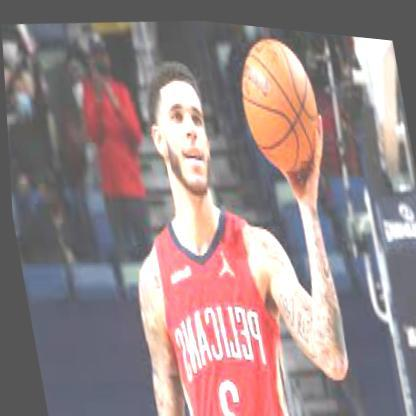basketball: (232, 25, 326, 172)
